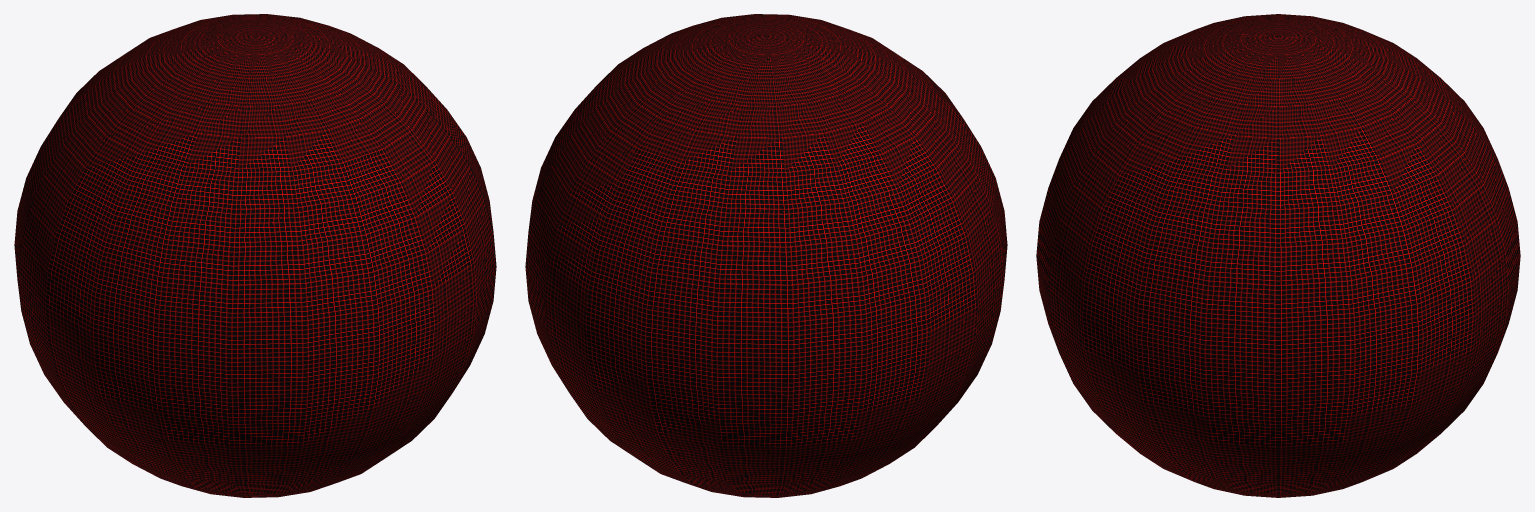
The model's file is SphereGrid3.obj.
3 views of the same model, side by side, from view 1: azimuth 30°, elevation 25°; view 2: azimuth 150°, elevation 25°; view 3: azimuth 270°, elevation 25° (orthographic).
Parts seen in each view (by area): view 1: Grid3; view 2: Grid3; view 3: Grid3.
Boxes of the visible parts, x1,y1,x2,y2 form: Grid3: (14, 14, 496, 497); Grid3: (525, 14, 1007, 497); Grid3: (1036, 14, 1520, 497).
Bounding box in the file's own units: 2 × 2 × 2.
Materials: 1 (1 with a texture image).
